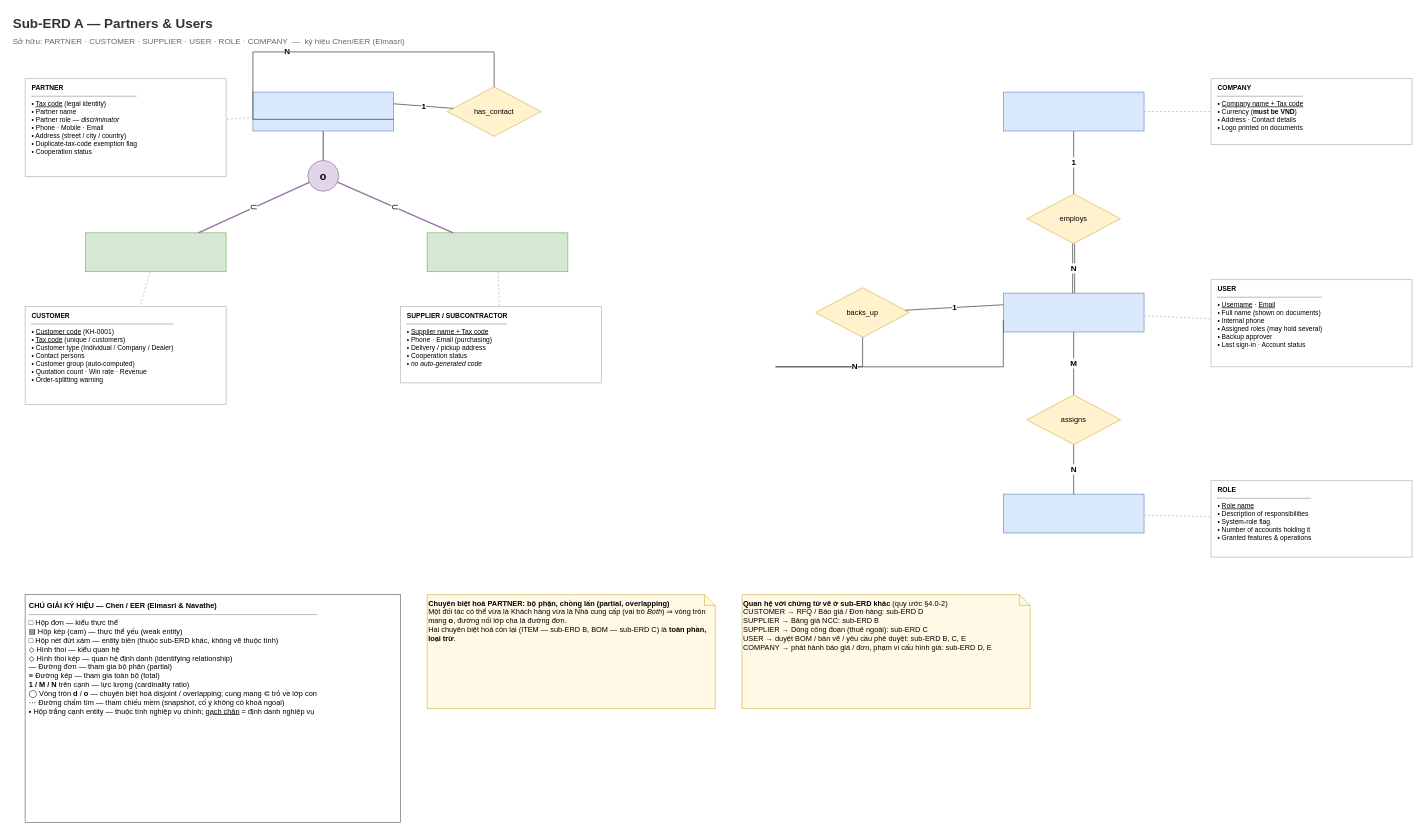
Image size: 1424x834. Some labels were removed from this diagram. The shapes that lost their labels are listed below. From the top down, each one's centre as x and y in pixels, then its label:
At (323,111): "PARTNER".
At (1073,111): "COMPANY".
At (155,252): "CUSTOMER".
At (497,252): "SUPPLIER / SUBCONTRACTOR".
At (1073,312): "USER".
At (1073,513): "ROLE".
